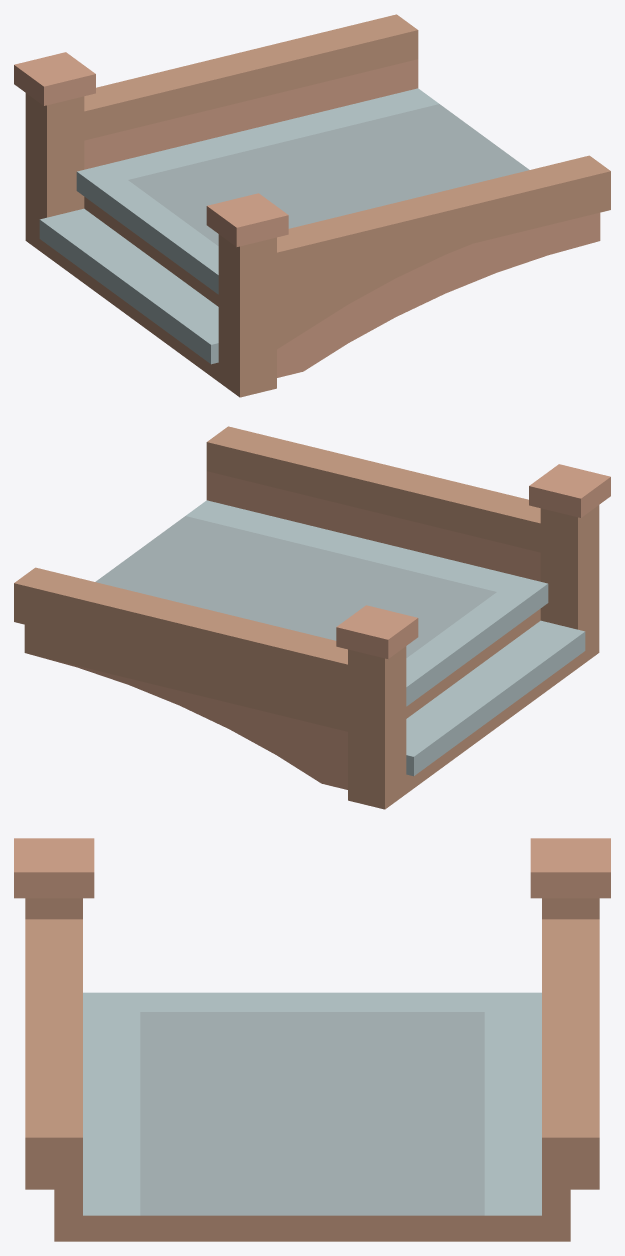
File: bridge_side_woodRound.glb
3 views of the same model, one above another, from view 1: azimuth 30°, elevation 25°; view 2: azimuth 150°, elevation 25°; view 3: azimuth 270°, elevation 25° (orthographic). The views are drawn at different scales.
Visible parts, largest first — view 1: bridge_side_woodRound; view 2: bridge_side_woodRound; view 3: bridge_side_woodRound.
Part boxes in pixels (bbox=[...]): bridge_side_woodRound: bbox=[14, 14, 610, 397]; bridge_side_woodRound: bbox=[14, 426, 610, 809]; bridge_side_woodRound: bbox=[14, 838, 610, 1241].
Bounding box in the file's own units: 1.02 × 0.45 × 1.04.
